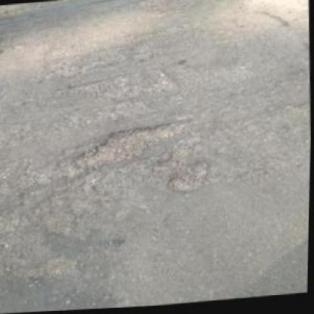Hueco: (73, 122, 184, 173), (167, 162, 211, 197)
